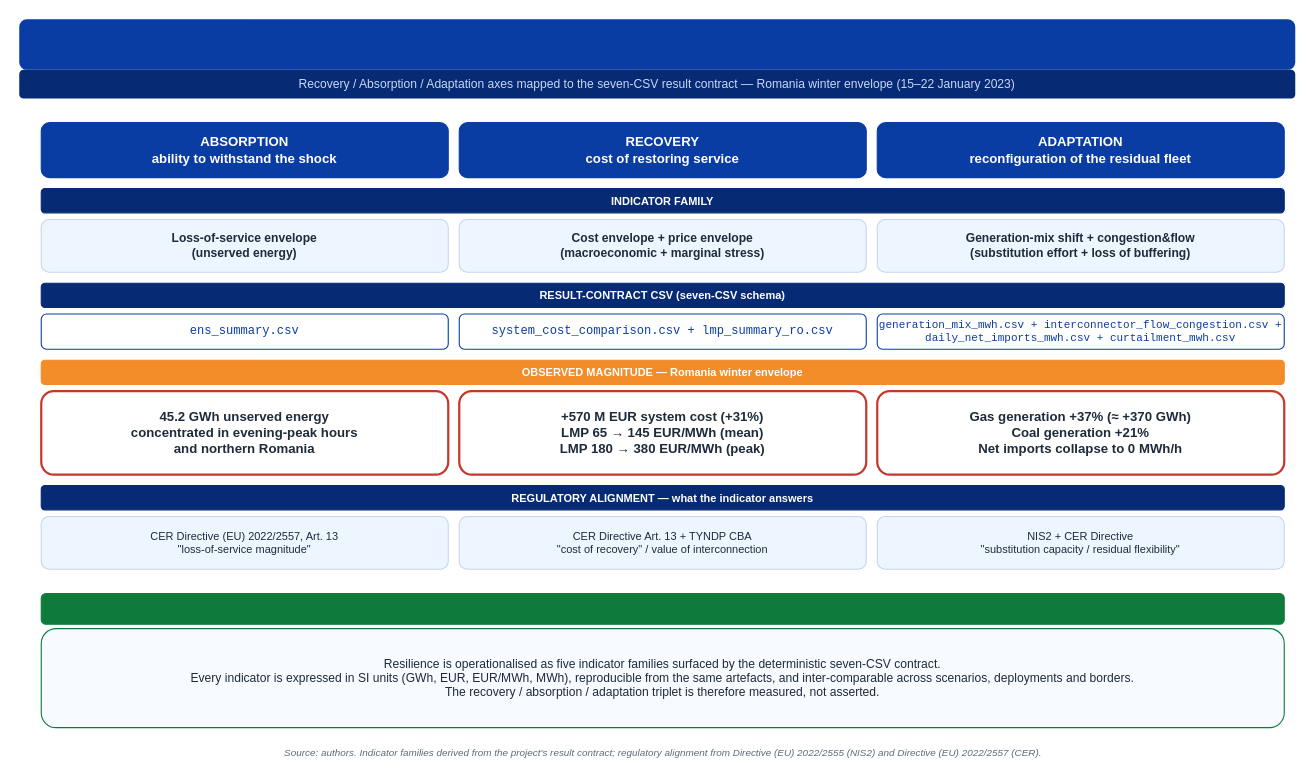
This 1313x783 diagram has some shape labels left out. Each missing label, with the box of its shape:
Operational Definition of Resilience and Its Measurement: (19, 19, 1295, 69)
SYNTHESIS — resilience as a verifiable, inter-comparable property: (40, 592, 1284, 624)
